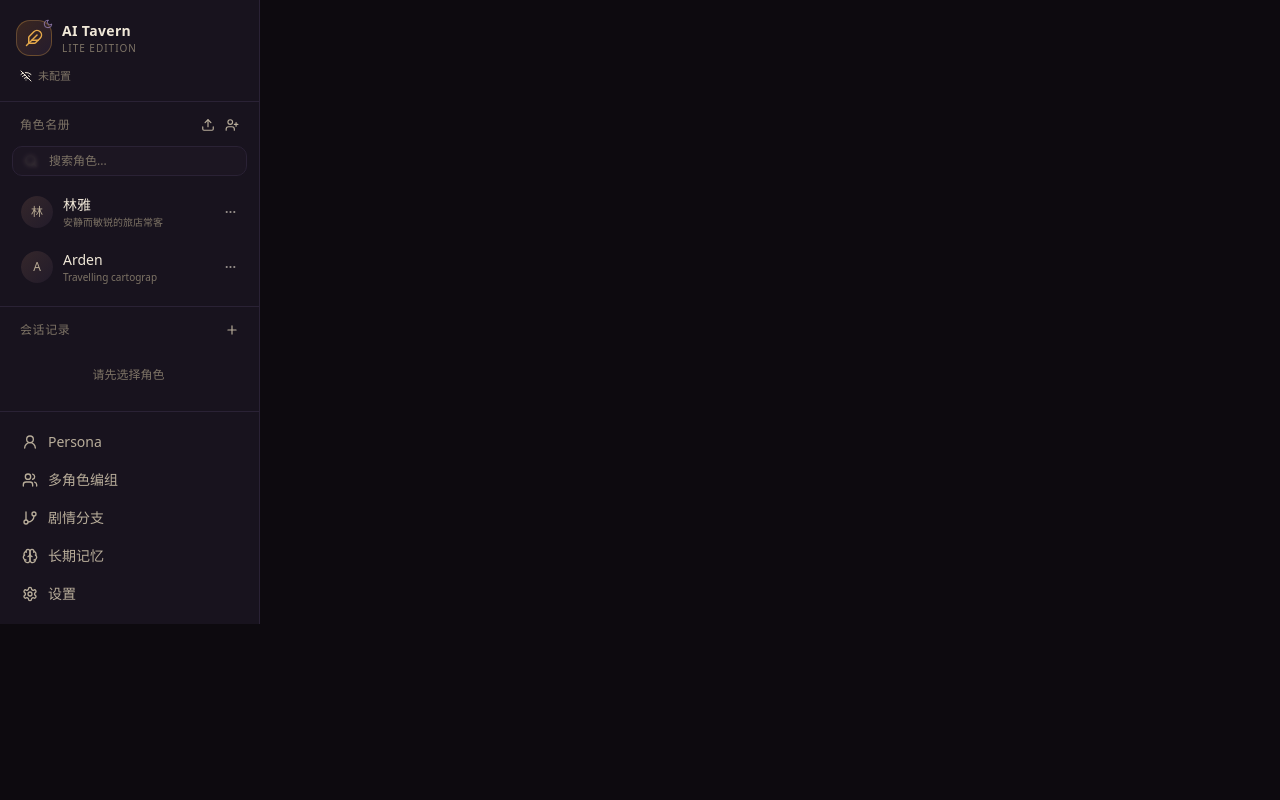
it: Sidebar › blocks a new session when the real model configuration is incomplete
Check: the button with aria-label "选择角色 林雅" is shown, box [12, 186, 245, 238]
Click the button titled "新建对话".
click(232, 330)  # box [221, 318, 243, 340]
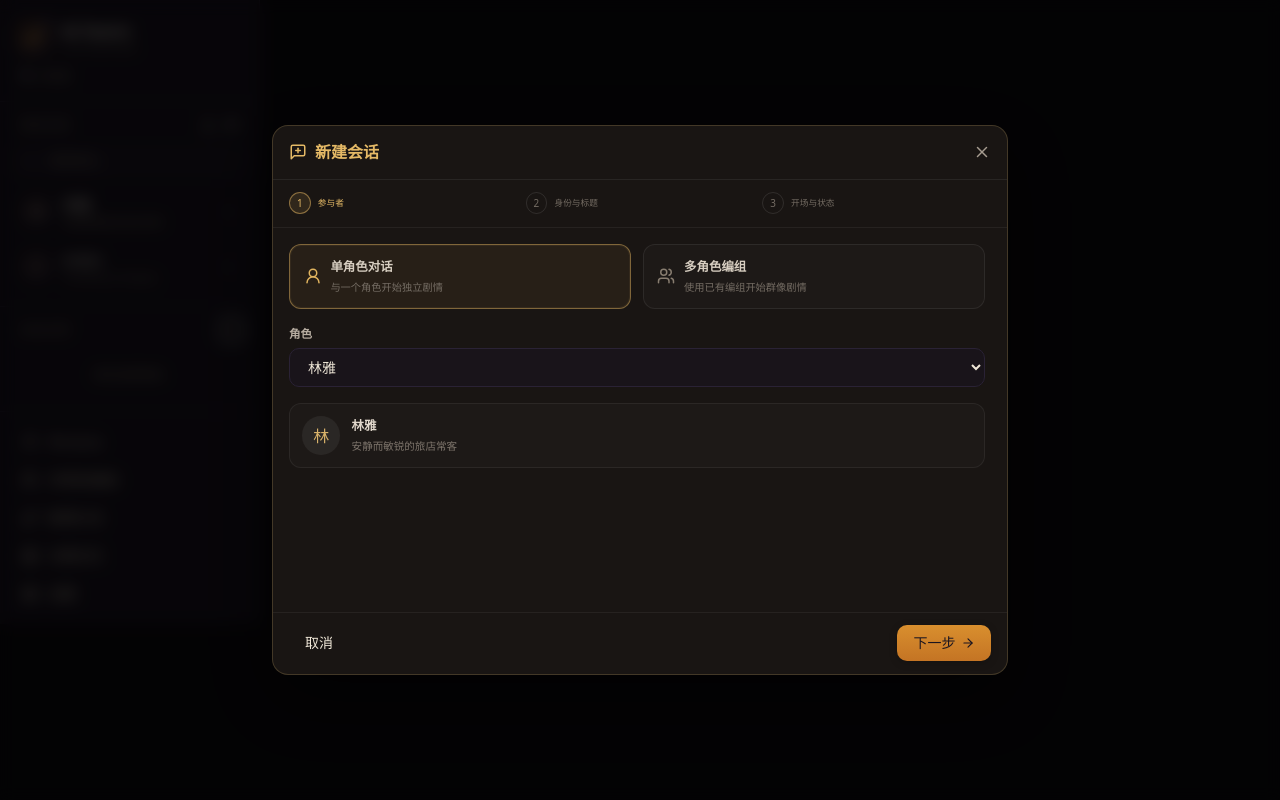
Click the button "下一步".
click(944, 644)  # box [897, 626, 991, 662]
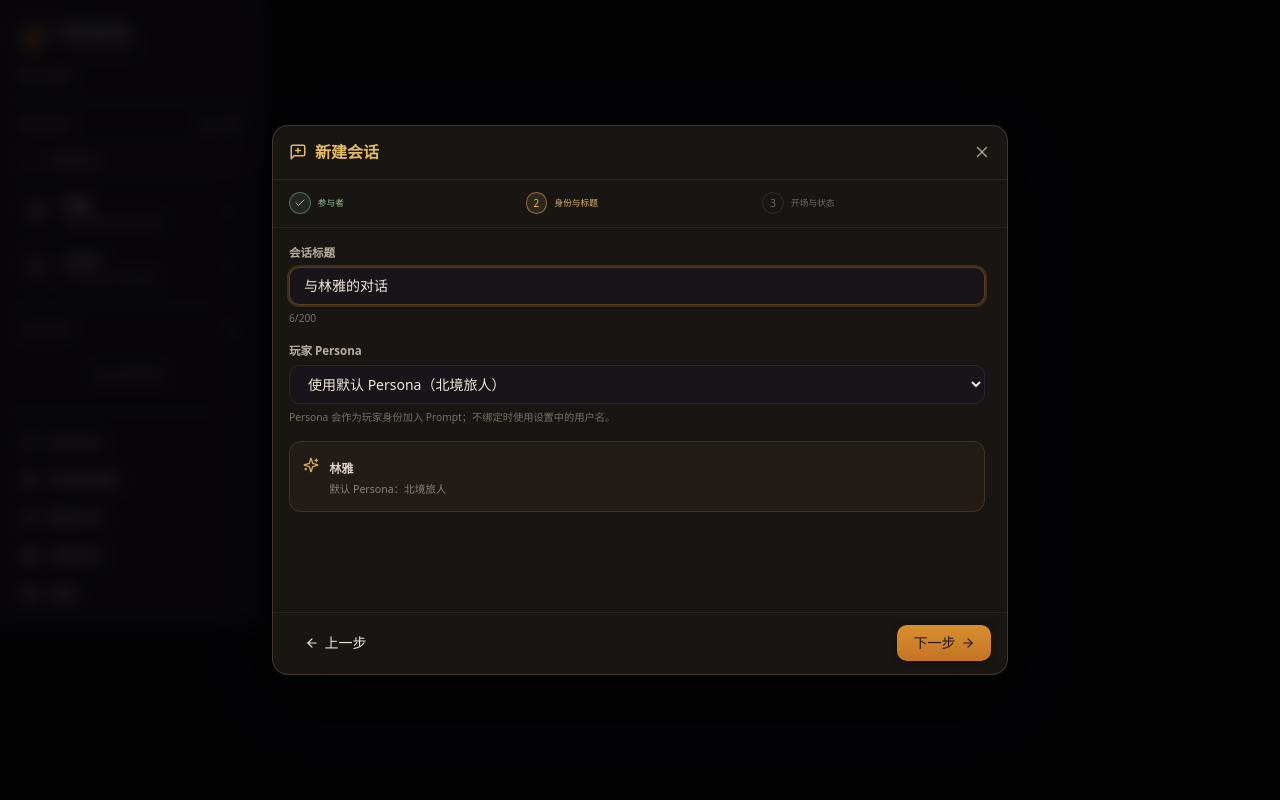
Click the button "下一步".
click(944, 644)  # box [897, 626, 991, 662]
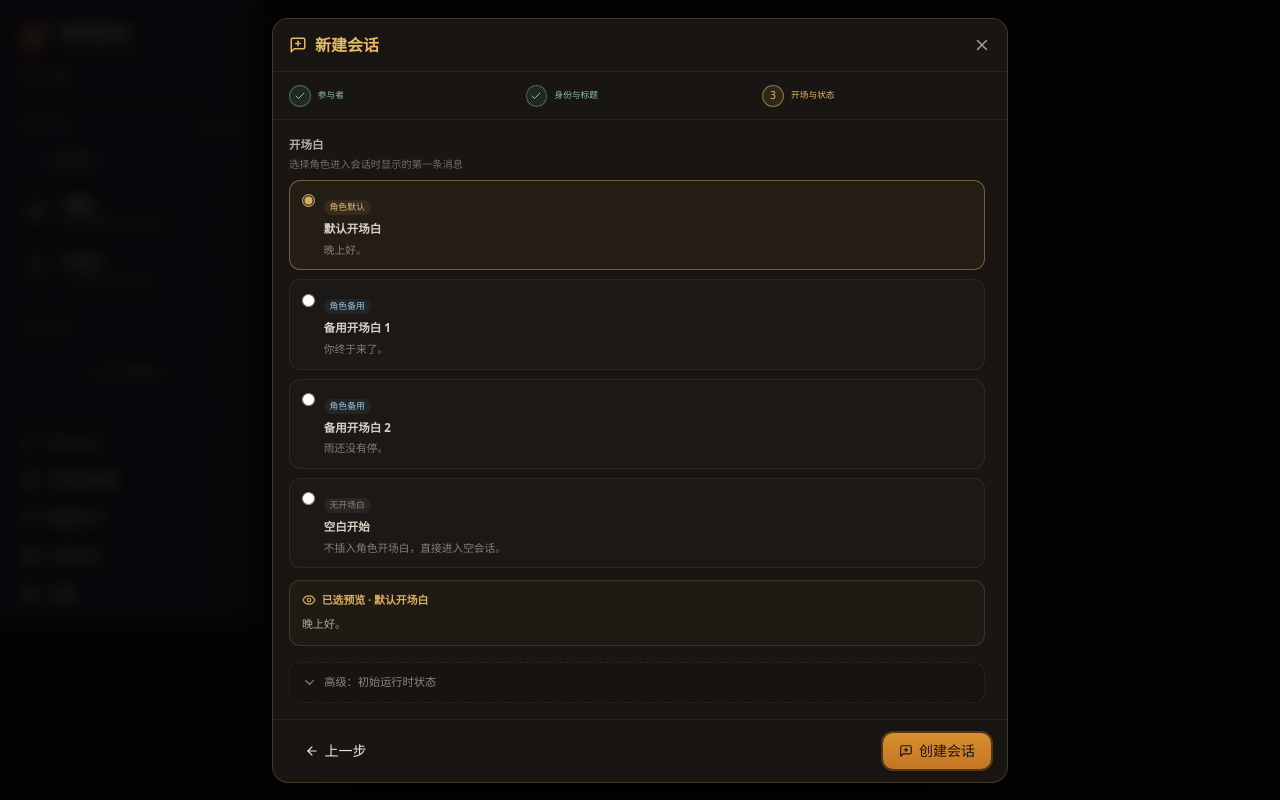
Click the button "创建会话".
click(937, 751)  # box [883, 733, 991, 769]
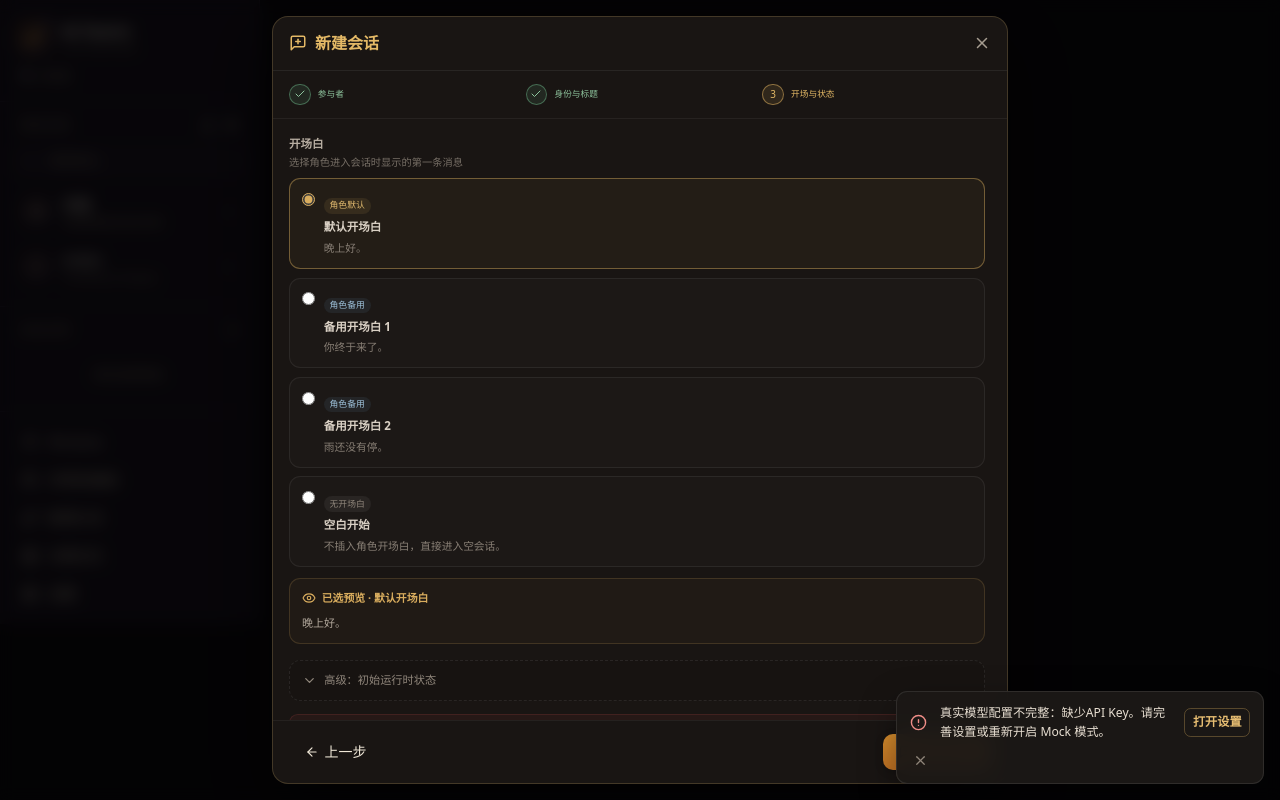
Check: the text "真实模型配置不完整：缺少API Key。请完善设置或重新开启 Mock 模式。" is shown, box [940, 704, 1176, 741]
Check: the button "打开设置" is shown, box [1184, 708, 1250, 737]
